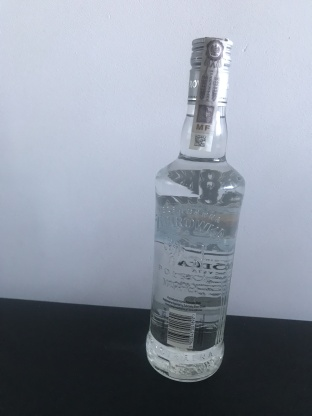nakretka: (184, 32, 235, 111)
